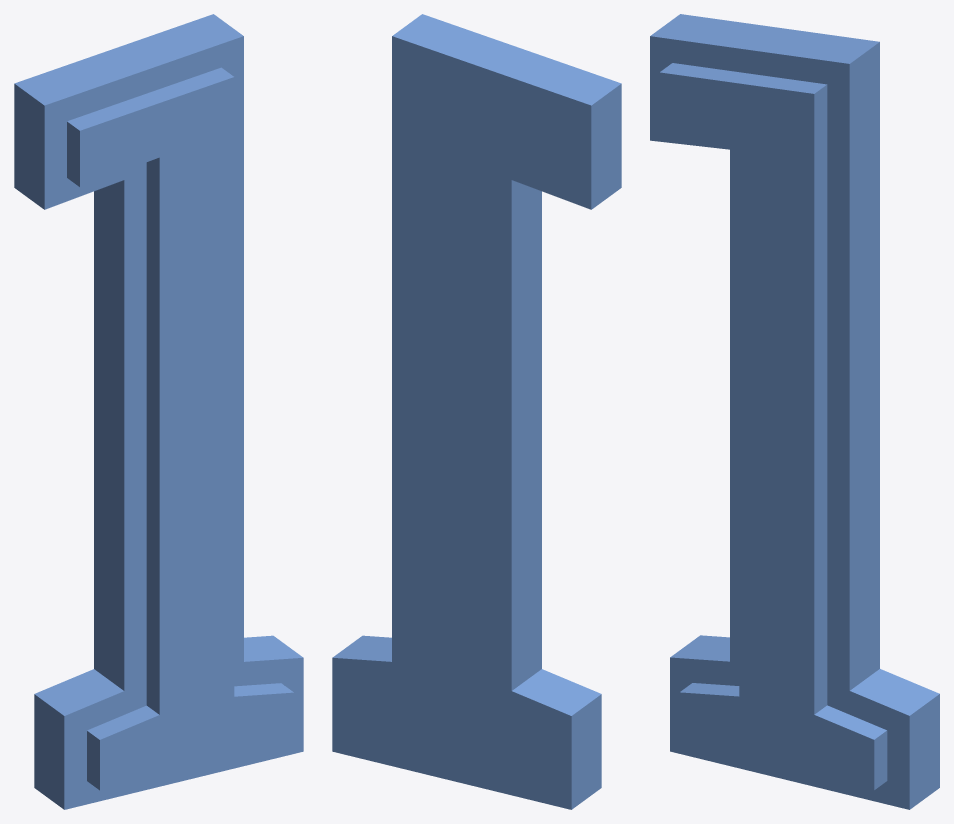
3 views of the same model, side by side, from view 1: azimuth 30°, elevation 25°; view 2: azimuth 150°, elevation 25°; view 3: azimuth 330°, elevation 25° (orthographic).
Visible parts, largest first — view 1: 1; view 2: 1; view 3: 1.
Part boxes in pixels (x1,y1,x2,y2): 1: (14, 14, 303, 809); 1: (332, 14, 621, 809); 1: (650, 14, 939, 809).
Size of the model in its own units: 1.73 by 4.67 by 0.5.
